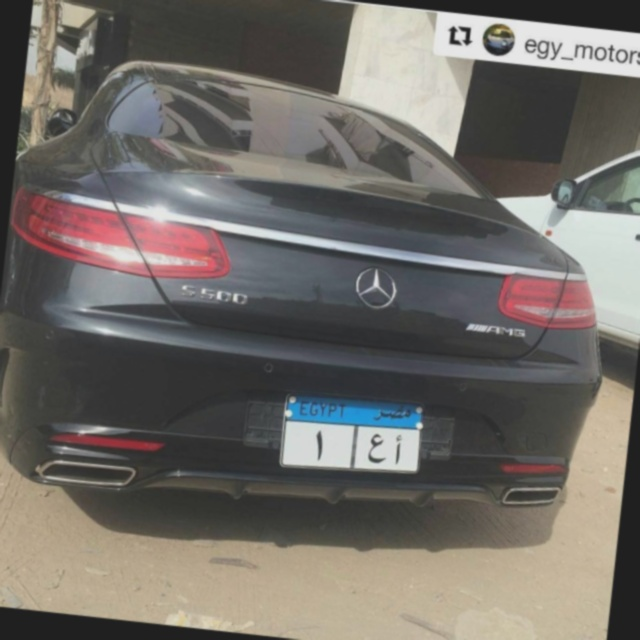License Plate: (273, 384, 430, 485)
